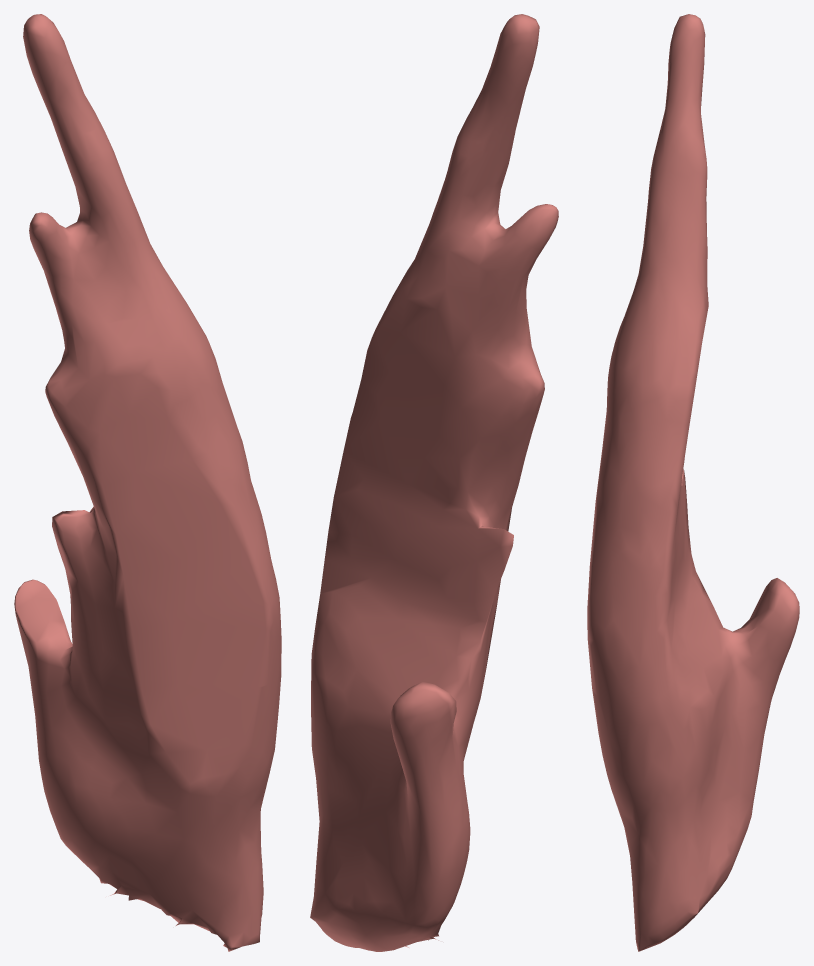
The model's file is fma13391_mm1298.glb.
3 renders of one model, left to right at view 1: azimuth 30°, elevation 25°; view 2: azimuth 150°, elevation 25°; view 3: azimuth 270°, elevation 25°, orthographic. The views are drawn at different scales.
Parts seen in each view (by area): view 1: FMA13391_MM1298; view 2: FMA13391_MM1298; view 3: FMA13391_MM1298.
Boxes of the visible parts, x1,y1,x2,y2 form: FMA13391_MM1298: (14,14,281,951); FMA13391_MM1298: (310,14,558,951); FMA13391_MM1298: (587,14,799,951).
Bounding box in the file's own units: 0.0208 × 0.0807 × 0.0182.
